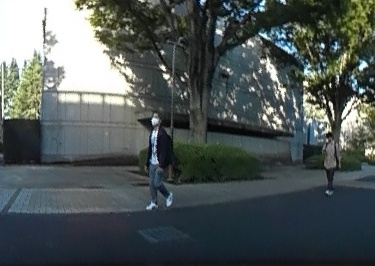person: (141, 106, 177, 210), (321, 131, 340, 196)
